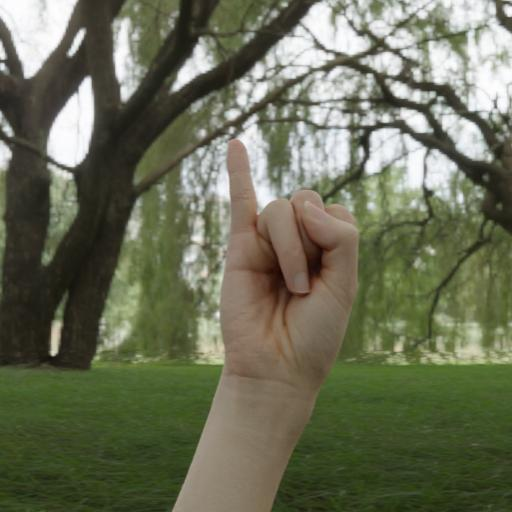I: (194, 120, 384, 403)
